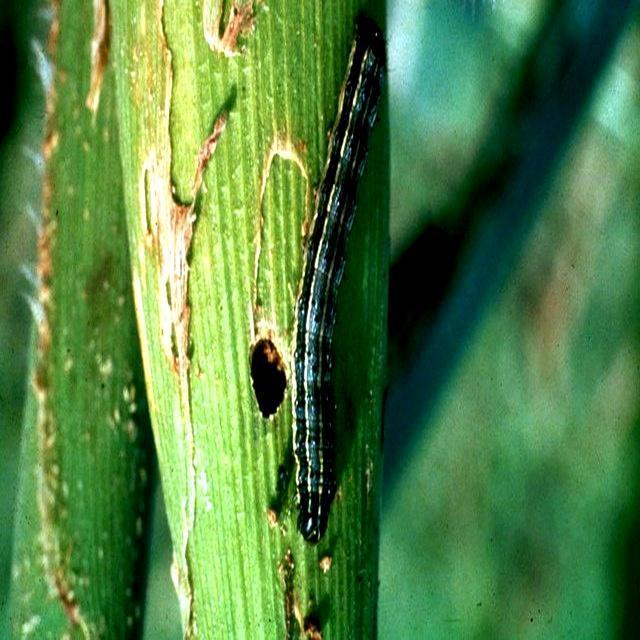gusano_cogollero: (286, 0, 394, 548)
